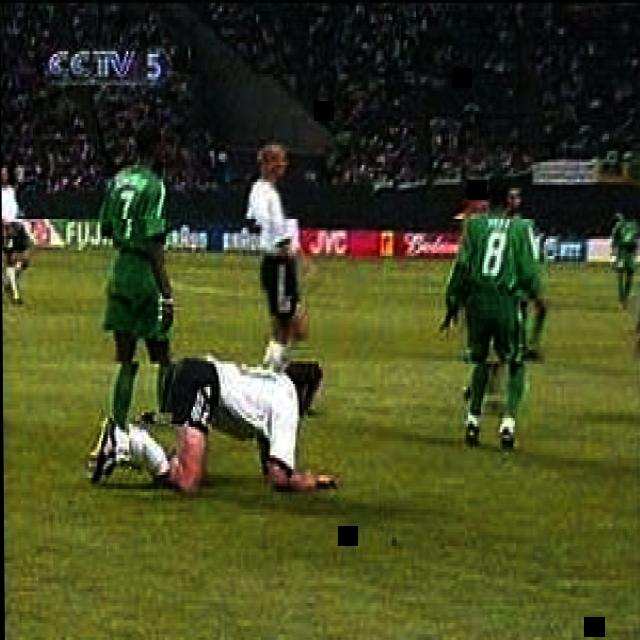Fall-Detected: (81, 328, 346, 503)
